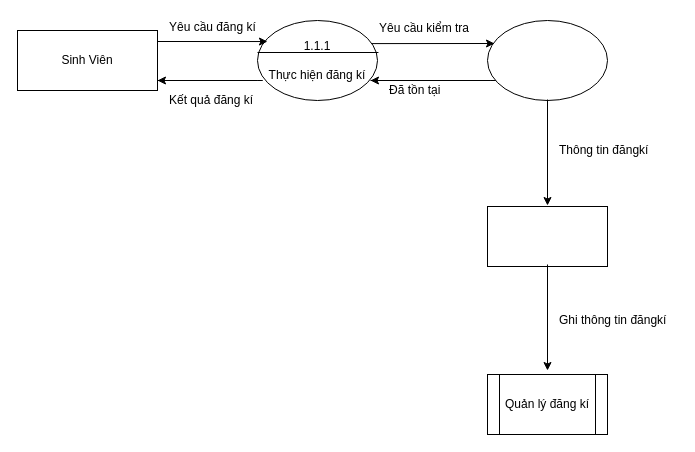
Some shapes in this 695 by 452 pixel diagram are drawn without their labels. Here are the shapes that lost their labels. From the top down, the box of each, then its label:
(486, 20, 608, 100): Kiểm Tra
(486, 206, 608, 266): Đăng kí
